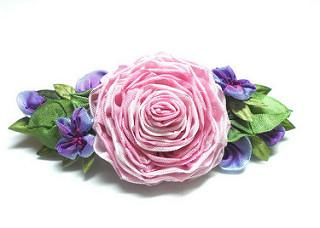Rose: (98, 52, 232, 189)
